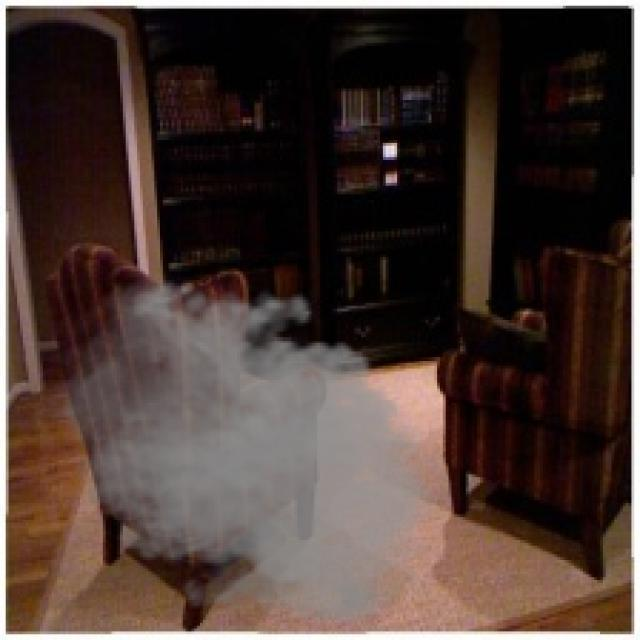Smoke: (31, 268, 448, 632)
